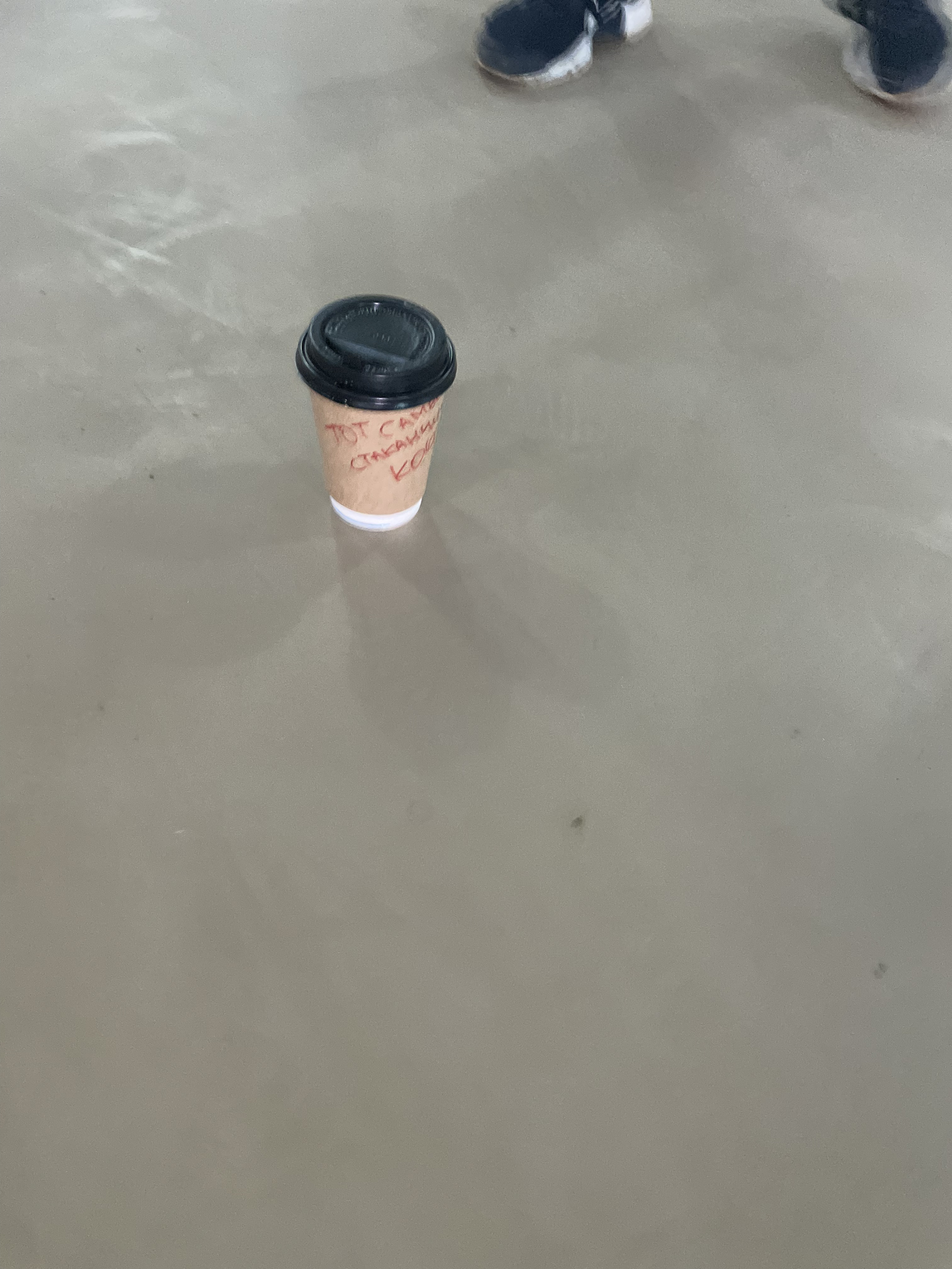cup: (294, 293, 457, 533)
